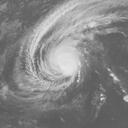cyclone: (14, 3, 102, 99)
